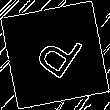P_SW: (25, 24, 85, 86)
